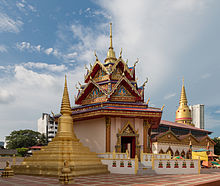Buddhist Temple: (36, 20, 151, 173)
